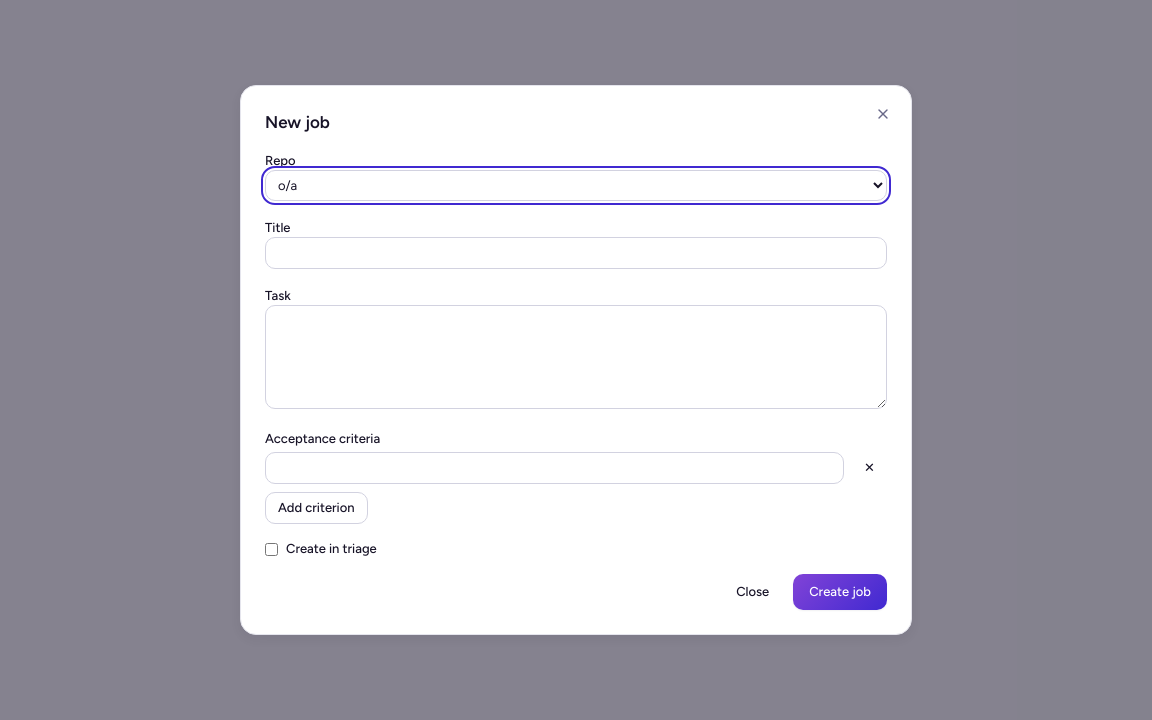
Test case: NewJobDialog › shows API validation errors per field and stays open
Click the button "Add criterion" at (316, 508), box [265,492,368,524]
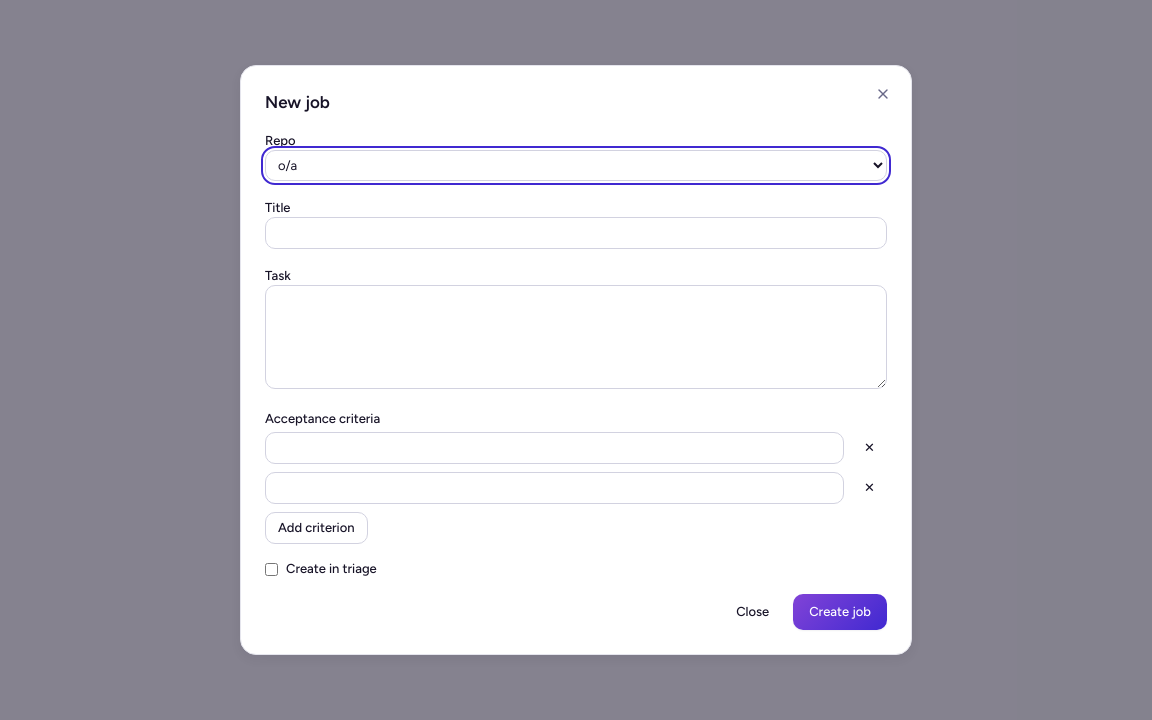
Type "ab" into the field named "Criterion 2" at (555, 488), box [265,472,844,504]
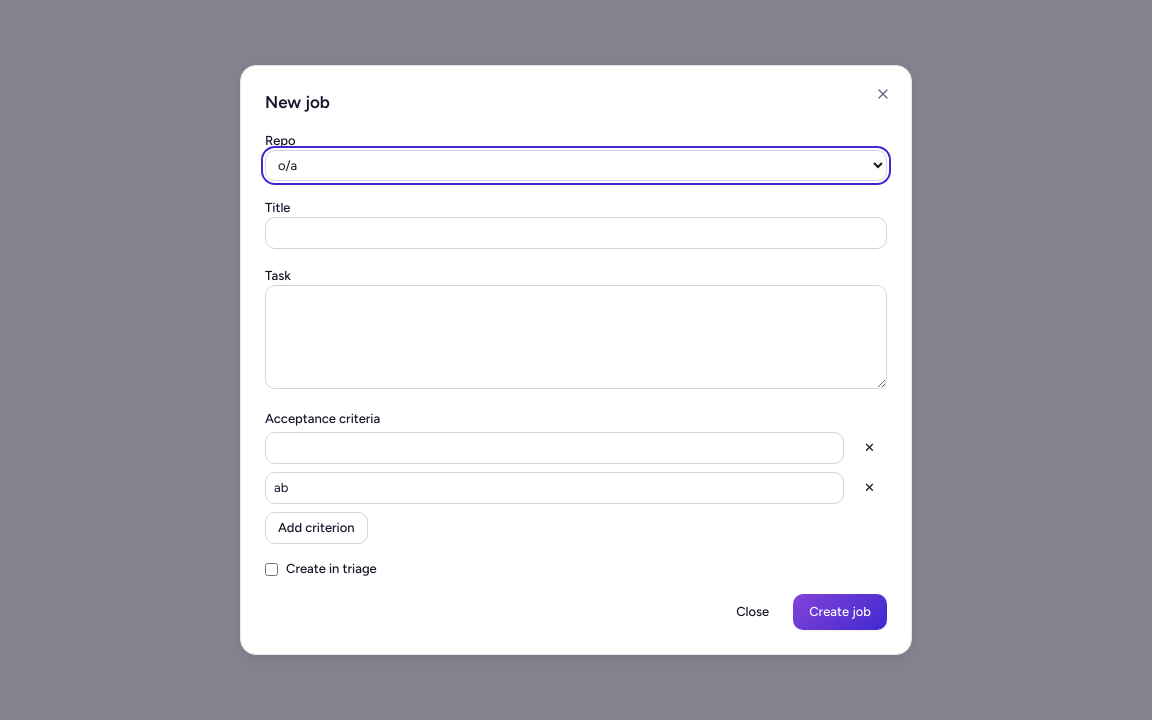
Click the button "Create job" at (840, 612), box [793,594,887,630]
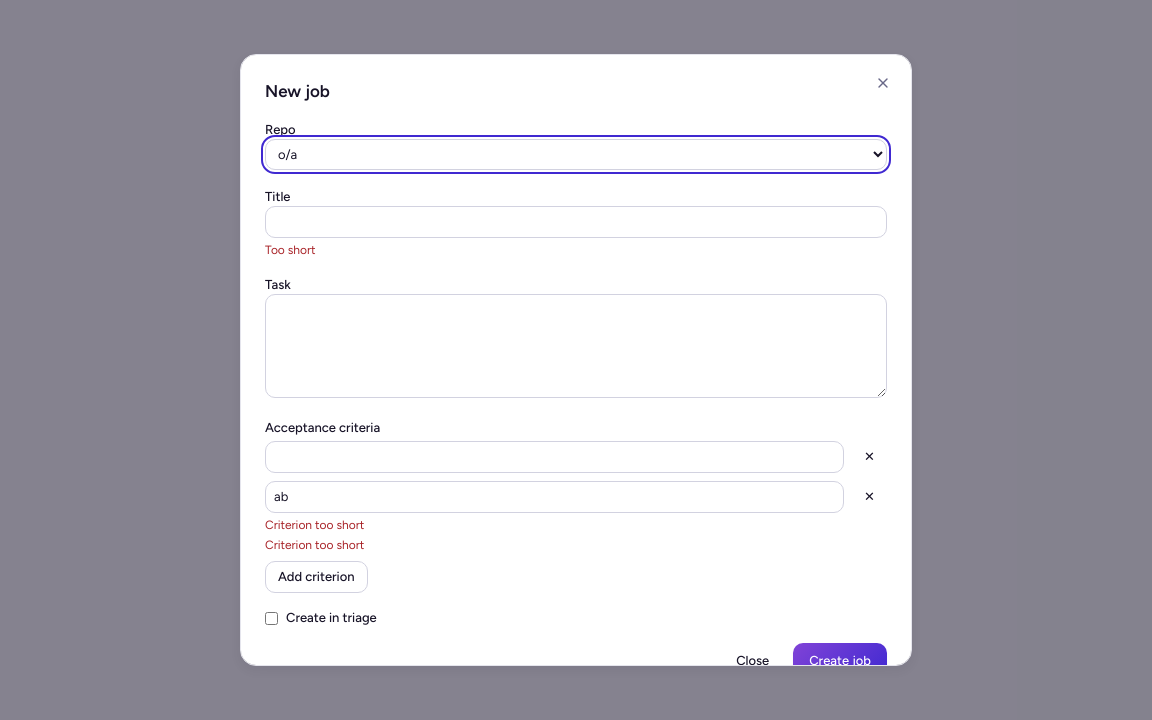
Expected: the button "Create job" is enabled, [793,643,887,666]
Expected: the text "Too short" is shown, [265,243,316,257]
Expected: the list item named "Criterion 2" shows "Criterion too short", [265,518,364,532]
